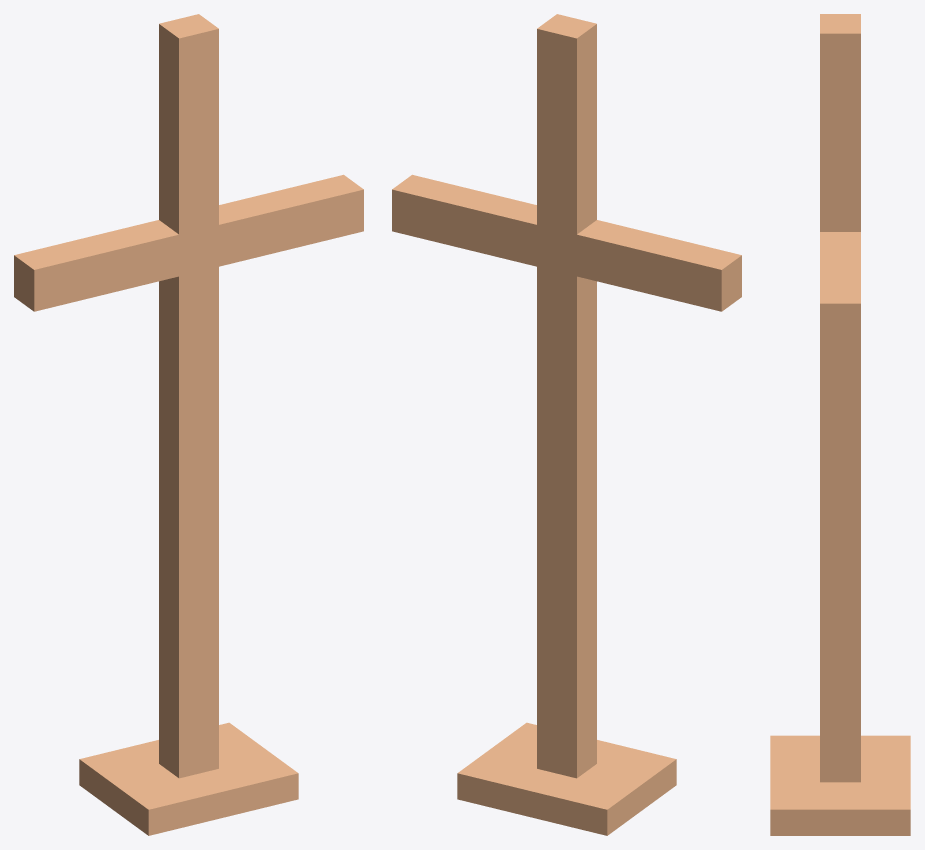
The picture shows the model from 3 angles, left to right: view 1: azimuth 30°, elevation 25°; view 2: azimuth 150°, elevation 25°; view 3: azimuth 270°, elevation 25°; orthographic projection.
Visible parts, largest first — view 1: Upright, Crossbar, Base; view 2: Upright, Crossbar, Base; view 3: Upright, Base, Crossbar.
Boxes of the visible parts, box(x1,y1,x2,y2) form: Upright: box(159, 14, 218, 778); Crossbar: box(14, 174, 363, 311); Base: box(79, 722, 298, 835); Upright: box(537, 14, 596, 778); Crossbar: box(392, 174, 741, 311); Base: box(457, 722, 676, 835); Upright: box(820, 14, 860, 782); Base: box(770, 735, 910, 835); Crossbar: box(820, 232, 860, 345).
Size of the model in its own units: 66 by 147 by 24.
